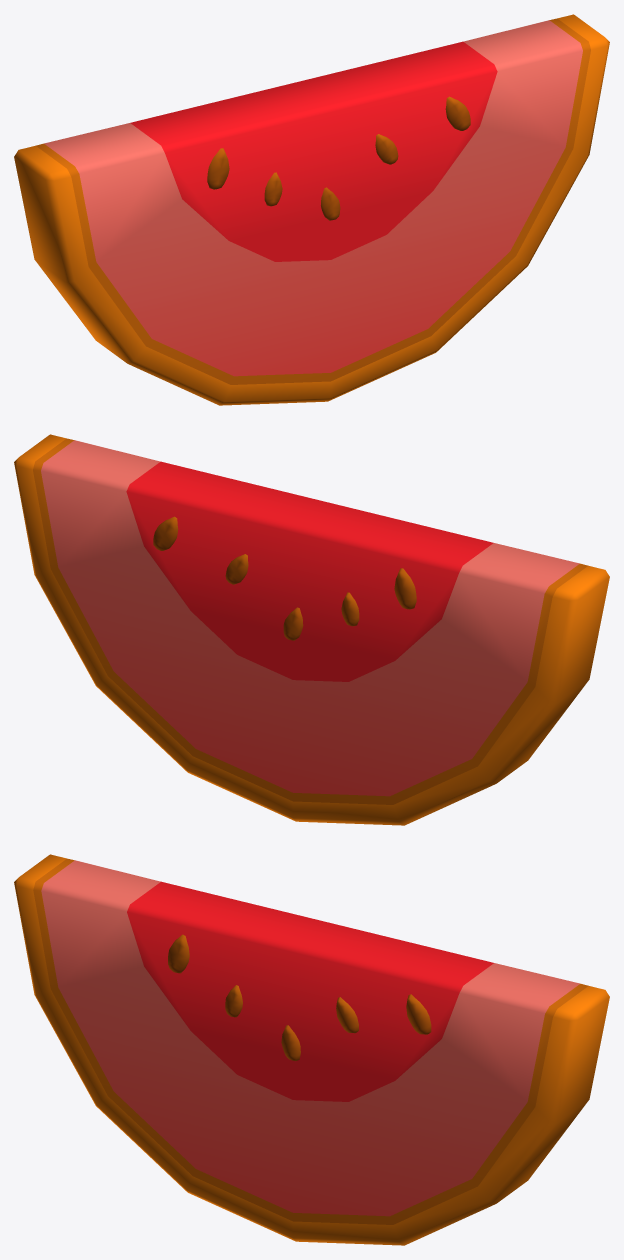
File: Slice_melon.fbx
The picture shows the model from 3 angles, top to bottom: view 1: azimuth 30°, elevation 25°; view 2: azimuth 150°, elevation 25°; view 3: azimuth 330°, elevation 25°; orthographic projection.
Visible parts, largest first — view 1: Slice_melon; view 2: Slice_melon; view 3: Slice_melon.
Boxes of the visible parts, <box> form: Slice_melon: <box>14,14,609,405</box>; Slice_melon: <box>14,434,609,825</box>; Slice_melon: <box>14,854,609,1245</box>.
Bounding box in the file's own units: 199 × 100 × 26.33.
